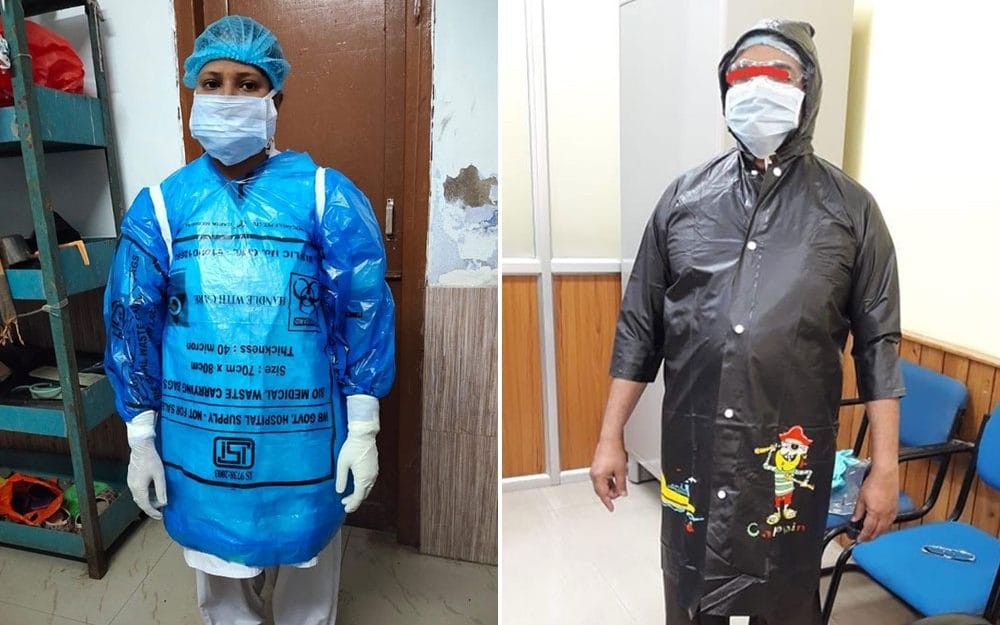Coverall: (606, 17, 912, 625), (101, 154, 398, 577)
Gloves: (112, 410, 171, 523), (333, 390, 384, 516)
with_mask: (190, 68, 274, 167), (723, 59, 802, 163)
